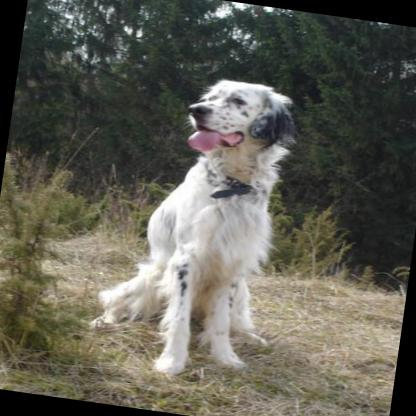English_setter: (88, 63, 300, 384)
